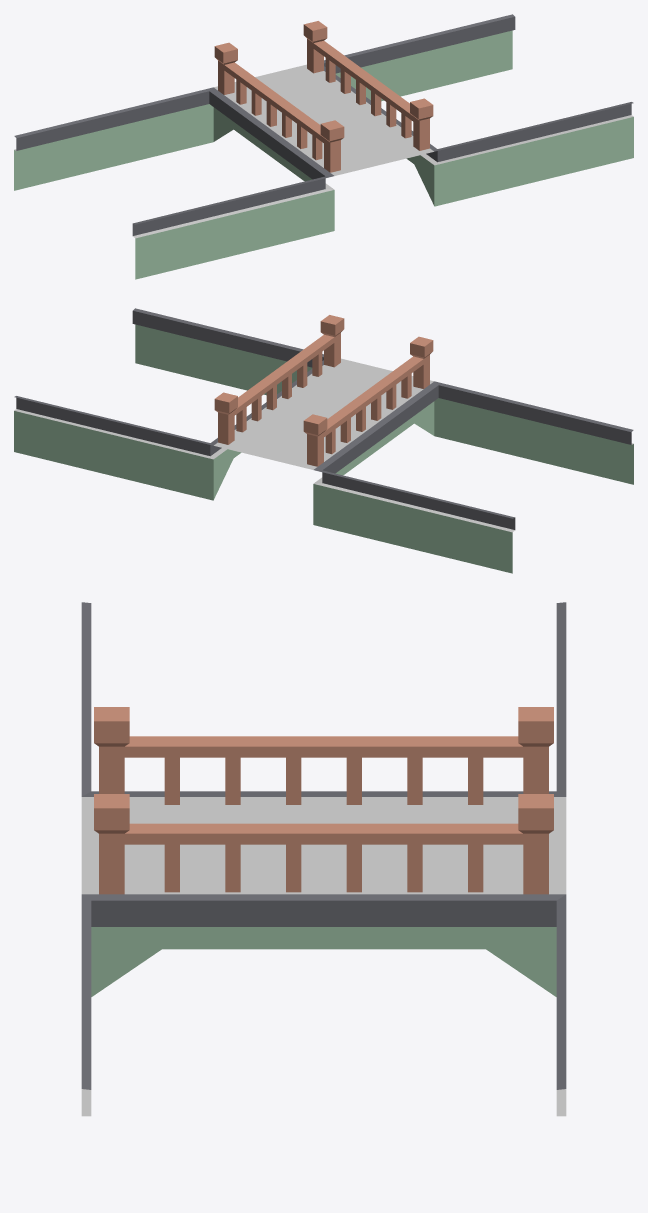
The model's file is Bridge.fbx.
3 views of the same model, one above another, from view 1: azimuth 30°, elevation 25°; view 2: azimuth 150°, elevation 25°; view 3: azimuth 270°, elevation 25° (orthographic). The views are drawn at different scales.
Visible parts, largest first — view 1: Plane.011, Plane.013, Plane.012; view 2: Plane.011, Plane.013, Plane.012; view 3: Plane.011, Plane.013, Plane.012.
Boxes of the visible parts, <box> form: Plane.011: <box>14,14,633,279</box>; Plane.013: <box>303,21,433,150</box>; Plane.012: <box>214,42,344,172</box>; Plane.011: <box>14,308,633,573</box>; Plane.013: <box>214,315,344,444</box>; Plane.012: <box>303,336,433,466</box>; Plane.011: <box>81,602,566,1116</box>; Plane.013: <box>94,794,553,894</box>; Plane.012: <box>94,707,553,804</box>.
Size of the model in its own units: 1900 by 360 by 800.
